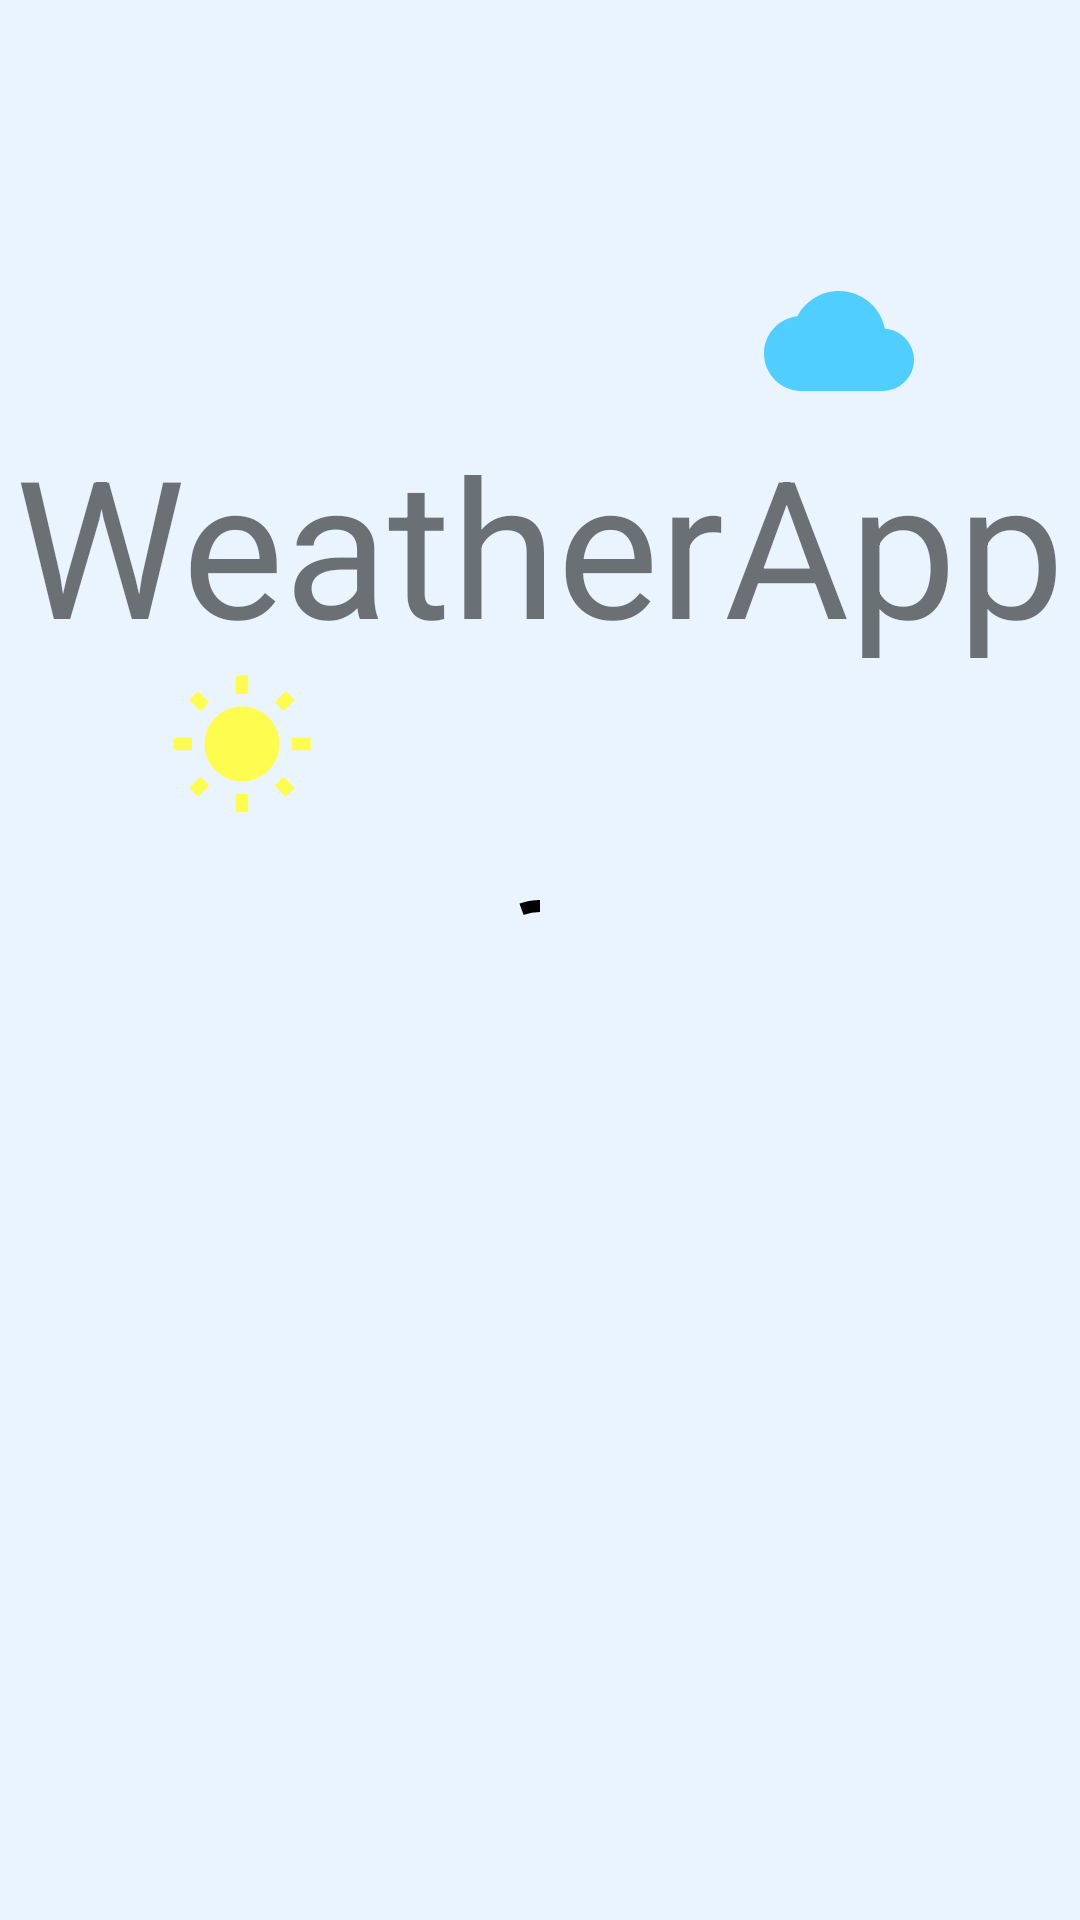

Point at icon controls on the screen. Image size 1080w x 1920h, points as (x=x, y=y).
cloud: (x=839, y=341)
sun: (x=242, y=744)
